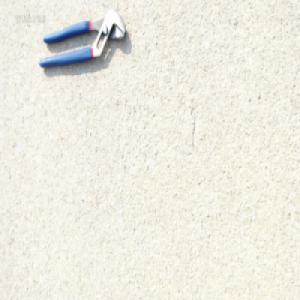Pliers: (37, 8, 126, 68)
